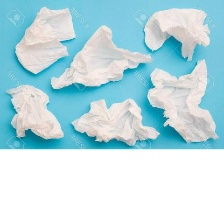tissue: (45, 20, 158, 94), (142, 57, 222, 146), (11, 1, 80, 78), (66, 94, 164, 148), (138, 3, 216, 63), (1, 79, 69, 145)
